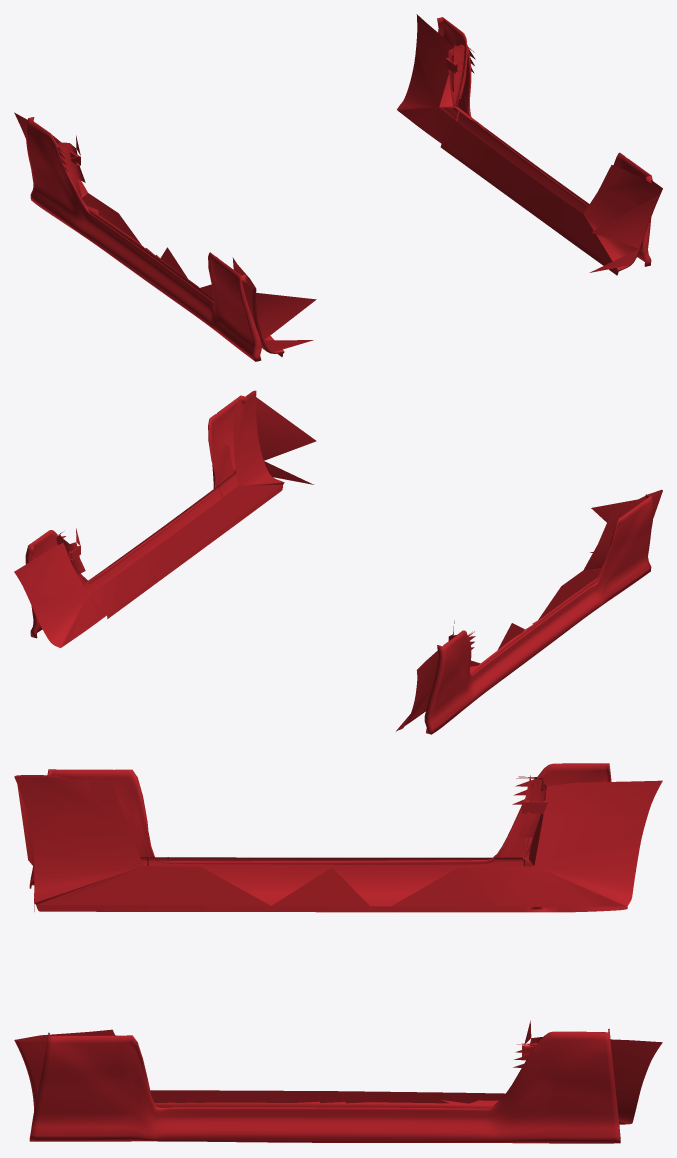
The model's file is wings-west.glb.
3 views of the same model, one above another, from view 1: azimuth 30°, elevation 25°; view 2: azimuth 150°, elevation 25°; view 3: azimuth 270°, elevation 25° (orthographic). The views are drawn at different scales.
Parts seen in each view (by area): view 1: WingsWestSkirts_Miata_Stock_skirts, WingsWestSkirts_Sills; view 2: WingsWestSkirts_Miata_Stock_skirts, WingsWestSkirts_Sills; view 3: WingsWestSkirts_Miata_Stock_skirts, WingsWestSkirts_Sills.
Part boxes in pixels (x1,y1,x2,y2): WingsWestSkirts_Miata_Stock_skirts: (14, 14, 662, 356); WingsWestSkirts_Sills: (25, 17, 652, 361); WingsWestSkirts_Miata_Stock_skirts: (14, 390, 662, 731); WingsWestSkirts_Sills: (25, 395, 653, 734); WingsWestSkirts_Miata_Stock_skirts: (14, 775, 662, 1124); WingsWestSkirts_Sills: (29, 763, 620, 1143).
Size of the model in its own units: 68.82 by 14.58 by 69.4.
